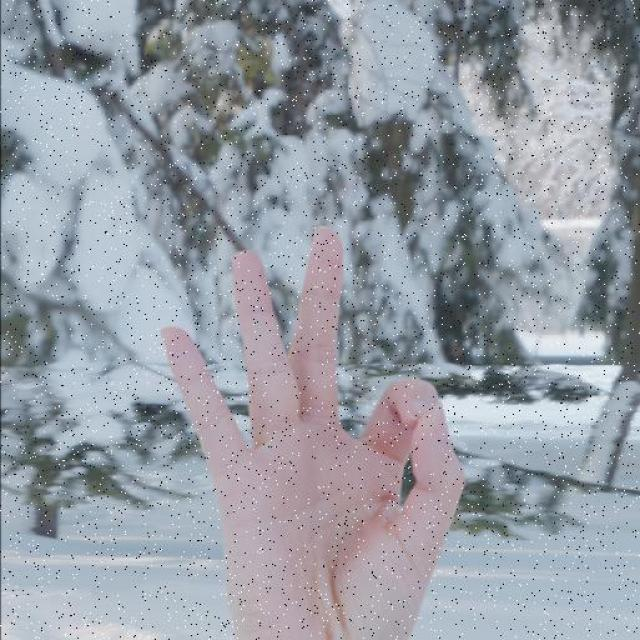F: (153, 220, 476, 626)
